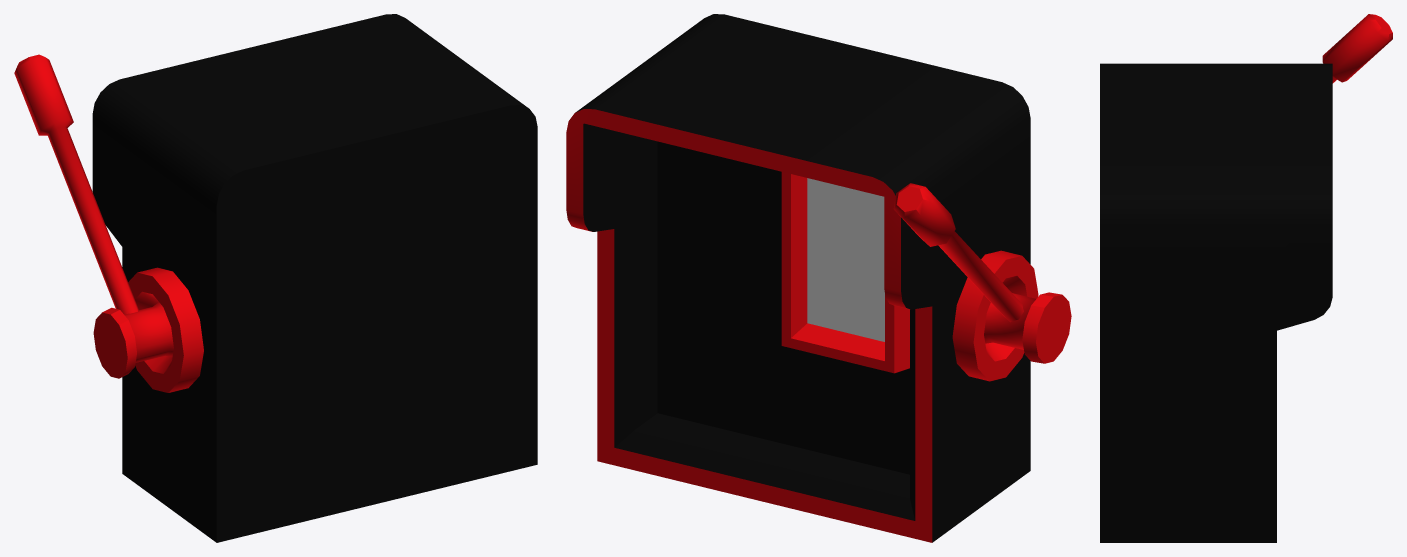
The model's file is ElectricBox-M00A.fbx.
3 views of the same model, side by side, from view 1: azimuth 30°, elevation 25°; view 2: azimuth 150°, elevation 25°; view 3: azimuth 270°, elevation 25° (orthographic). The views are drawn at different scales.
Visible parts, largest first — view 1: ElectricBox-M00A; view 2: ElectricBox-M00A; view 3: ElectricBox-M00A.
Boxes of the visible parts, box(x1,y1,x2,y2) form: ElectricBox-M00A: box(14, 14, 537, 542); ElectricBox-M00A: box(566, 14, 1071, 542); ElectricBox-M00A: box(1100, 14, 1392, 542).
Bounding box in the file's own units: 220 × 212 × 155.
